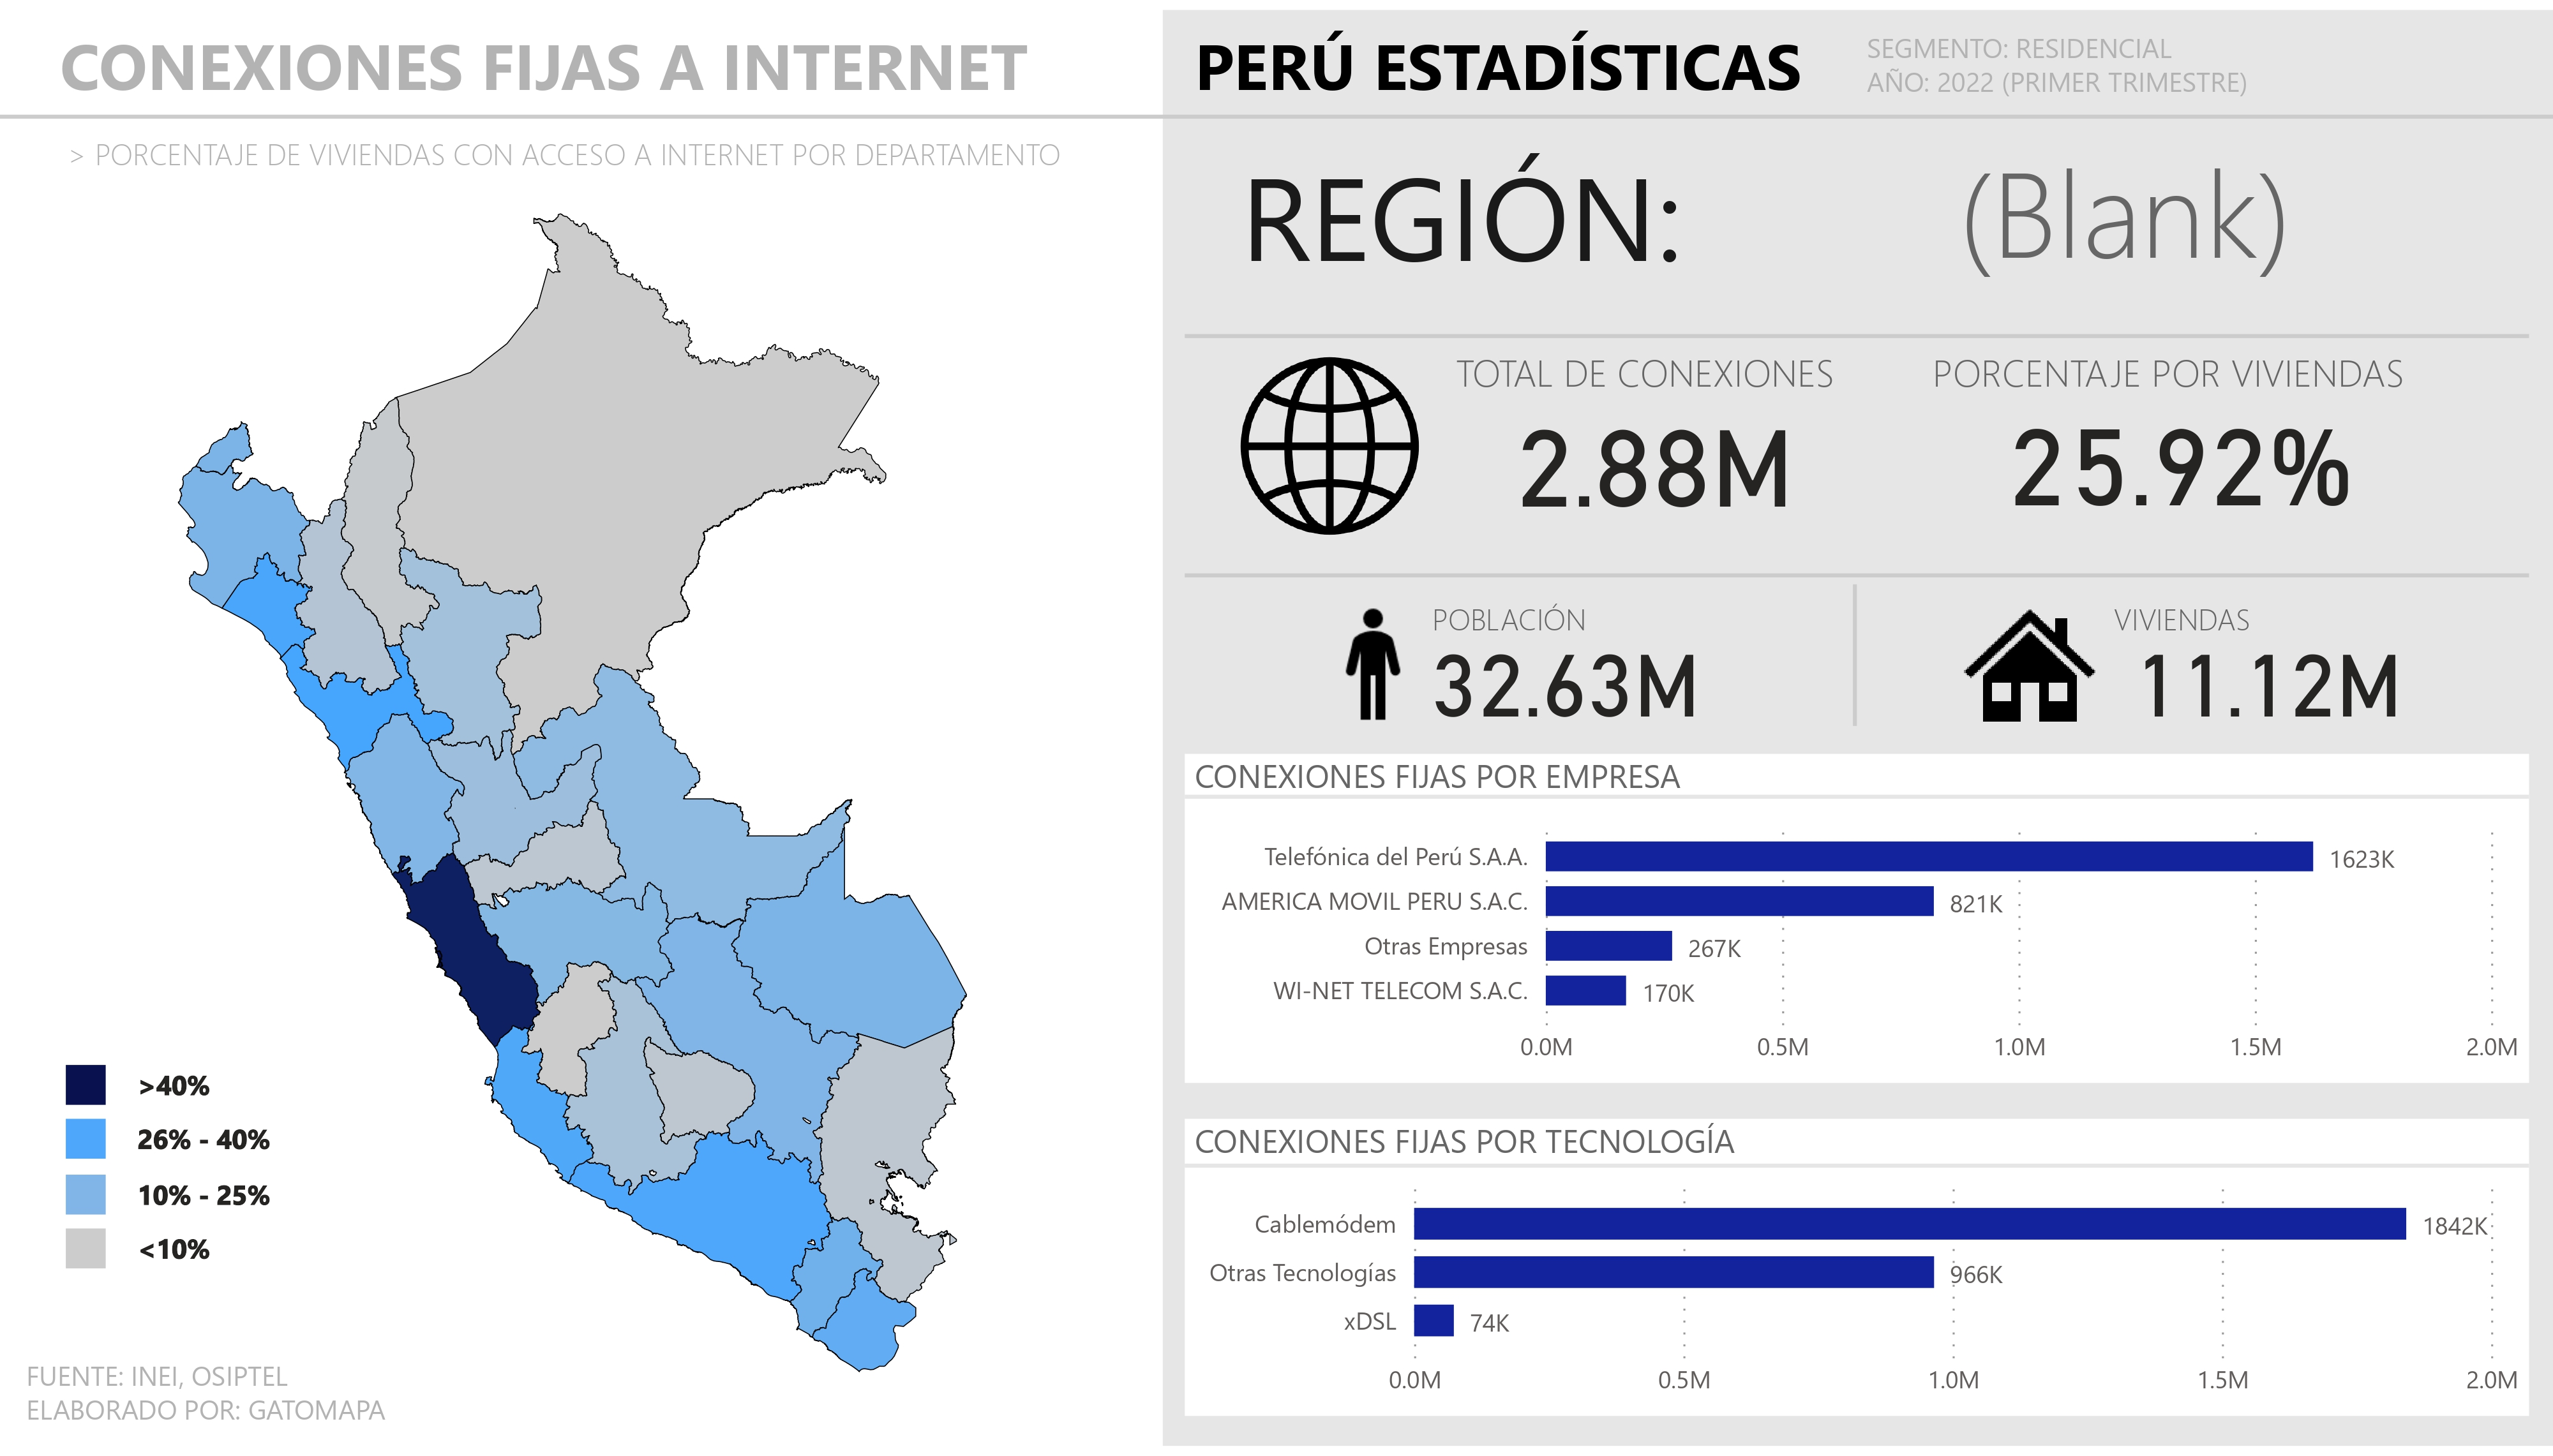

The page's visual inventory and layout, read from the dashboard file:
{"tool":"powerbi","page":{"name":"DASHBOARD","canvas":[1280,720],"ordinal":0},"visuals":[{"type":"shape","box":[582.8,0,697.2,720.3],"z":0},{"type":"card","fields":{"Values":["Sum(POBLACION.Poblacion)"]},"box":[692.2,307.5,184.3,53.6],"z":0,"group":"g5"},{"type":"card","fields":{"Values":["Sum(Query1.VIVIENDAS_2022)"]},"box":[1044.5,307.5,184.3,53.6],"z":0,"group":"g6"},{"type":"group","id":"g1","title":"Group 1","box":[33.1,524.5,149.6,27.5],"z":0,"group":"g7"},{"type":"shape","box":[33.1,528.9,19.8,19.8],"z":0,"group":"g1"},{"type":"shape","box":[33,556.4,19.8,19.8],"z":0,"group":"g2"},{"type":"shape","box":[33.1,583.9,19.8,19.8],"z":0,"group":"g3"},{"type":"shape","box":[33.1,611.4,19.8,19.8],"z":0,"group":"g4"},{"type":"shapeMap","fields":{"Category":["Query1.Departamento"],"Value":["Sum(Query1.Porcentaje)"]},"box":[0,64.9,574,655.4],"z":1000},{"type":"image","box":[974.9,286.1,84.6,84.6],"z":1000,"group":"g6"},{"type":"image","box":[653.6,293.6,68.6,68.6],"z":1000,"group":"g5"},{"type":"textbox","box":[63.9,524.5,118.8,27.5],"z":1000,"group":"g1"},{"type":"group","id":"g2","title":"Group 1","box":[33,552,149.6,27.5],"z":1000,"group":"g7"},{"type":"textbox","box":[63.8,552,118.8,27.5],"z":1000,"group":"g2"},{"type":"textbox","box":[63.9,579.5,118.8,27.5],"z":1000,"group":"g3"},{"type":"textbox","box":[63.9,607,118.8,27.5],"z":1000,"group":"g4"},{"type":"textbox","box":[712.5,290.4,108.2,33.2],"z":2000,"group":"g5"},{"type":"textbox","box":[1055.3,290.4,108.2,33.2],"z":2000,"group":"g6"},{"type":"barChart","title":"CONEXIONES FIJAS POR EMPRESA","fields":{"Category":["TOTAL_CONEXIONES.Empresa"],"Y":["Sum(TOTAL_CONEXIONES.Total_Conexiones)"]},"box":[593.6,372.9,673.9,165],"z":2000},{"type":"group","id":"g3","title":"Group 1","box":[33.1,579.5,149.6,27.5],"z":2000,"group":"g7"},{"type":"barChart","title":"CONEXIONES FIJAS POR TECNOLOGÍA","fields":{"Category":["TOTAL_CONEXIONES.Tecnologia"],"Y":["Sum(TOTAL_CONEXIONES.Total_Conexiones)"]},"box":[593.6,556.1,673.9,148.9],"z":3000},{"type":"group","id":"g4","title":"Group 1","box":[33.1,607,149.6,27.5],"z":3000,"group":"g7"},{"type":"card","fields":{"Values":["Sum(TOTAL_CONEXIONES.Total_Conexiones)"]},"box":[668.7,162.7,321.1,119.9],"z":4000},{"type":"card","fields":{"Values":["TOTAL_CONEXIONES.Measure 2"]},"box":[862.5,49.3,405,97.5],"z":5000},{"type":"shape","box":[593.6,380.4,673.9,28.9],"z":6000},{"type":"shape","box":[593.6,564.6,673.9,28.9],"z":7000},{"type":"shape","box":[593.6,247.6,673.9,70.7],"z":8000},{"type":"shape","box":[920.4,288.2,20.4,70.7],"z":9000},{"type":"image","box":[612.2,163.3,108.8,110],"z":10000},{"type":"group","id":"g5","title":"Group 3","box":[653.6,290.4,222.9,71.8],"z":11000},{"type":"group","id":"g6","title":"Group 4","box":[974.9,286.1,253.9,84.6],"z":12000},{"type":"shape","box":[593.6,127.5,673.9,70.7],"z":13000},{"type":"shape","box":[0,18.2,1280,70.7],"z":14000},{"type":"textbox","box":[24.6,0,503.6,53.6],"z":15000},{"type":"textbox","box":[28.9,56.8,526.1,32.1],"z":16000},{"type":"textbox","box":[593.6,0,337.5,53.6],"z":17000},{"type":"textbox","box":[931.1,5.4,337.5,43.9],"z":18000},{"type":"textbox","box":[724.8,163.8,210,42.9],"z":19000},{"type":"textbox","box":[617.1,57.9,245.4,90],"z":20000},{"type":"textbox","box":[963.7,164.4,281.2,41.9],"z":21000},{"type":"card","fields":{"Values":["TOTAL_CONEXIONES.Porcentaje_Region"]},"box":[953.5,163.3,281.2,119],"z":22000},{"type":"textbox","box":[7.9,671.2,231.3,48.8],"z":23000},{"type":"group","id":"g7","title":"Group 2","box":[33,524.5,149.6,110],"z":24000}]}

Visuals, with their boxes in screenshot pixels (x1, y1, x2, y2), scaled from the page's 1280x720 canvas onto the 2553x1456 screenshot:
shape: (1162,0,2552,1455)
card - Sum(POBLACION.Poblacion): (1381,622,1748,730)
card - Sum(Query1.VIVIENDAS_2022): (2083,622,2451,730)
"Group 1" group: (66,1060,364,1117)
shape: (66,1069,105,1110)
shape: (66,1125,105,1165)
shape: (66,1181,105,1221)
shape: (66,1237,105,1277)
shapeMap - Query1.Departamento x Sum(Query1.Porcentaje): (0,131,1145,1455)
image: (1945,579,2113,750)
image: (1303,594,1441,732)
textbox: (128,1060,364,1117)
"Group 1" group: (66,1117,364,1172)
textbox: (127,1117,364,1172)
textbox: (128,1172,364,1228)
textbox: (128,1228,364,1283)
textbox: (1421,587,1637,655)
textbox: (2105,587,2321,655)
"CONEXIONES FIJAS POR EMPRESA" barChart: (1184,754,2528,1088)
"Group 1" group: (66,1172,364,1228)
"CONEXIONES FIJAS POR TECNOLOGÍA" barChart: (1184,1125,2528,1425)
"Group 1" group: (66,1228,364,1283)
card - Sum(TOTAL_CONEXIONES.Total_Conexiones): (1334,329,1974,572)
card - TOTAL_CONEXIONES.Measure 2: (1720,100,2528,297)
shape: (1184,769,2528,828)
shape: (1184,1141,2528,1200)
shape: (1184,501,2528,644)
shape: (1836,583,1876,726)
image: (1221,331,1438,553)
"Group 3" group: (1303,587,1748,732)
"Group 4" group: (1945,579,2451,750)
shape: (1184,258,2528,401)
shape: (0,37,2552,180)
textbox: (49,0,1054,108)
textbox: (57,115,1107,180)
textbox: (1184,0,1857,108)
textbox: (1857,11,2530,100)
textbox: (1446,331,1864,418)
textbox: (1231,117,1720,299)
textbox: (1922,332,2483,417)
card - TOTAL_CONEXIONES.Porcentaje_Region: (1902,331,2462,571)
textbox: (16,1357,477,1455)
"Group 2" group: (66,1060,364,1283)
